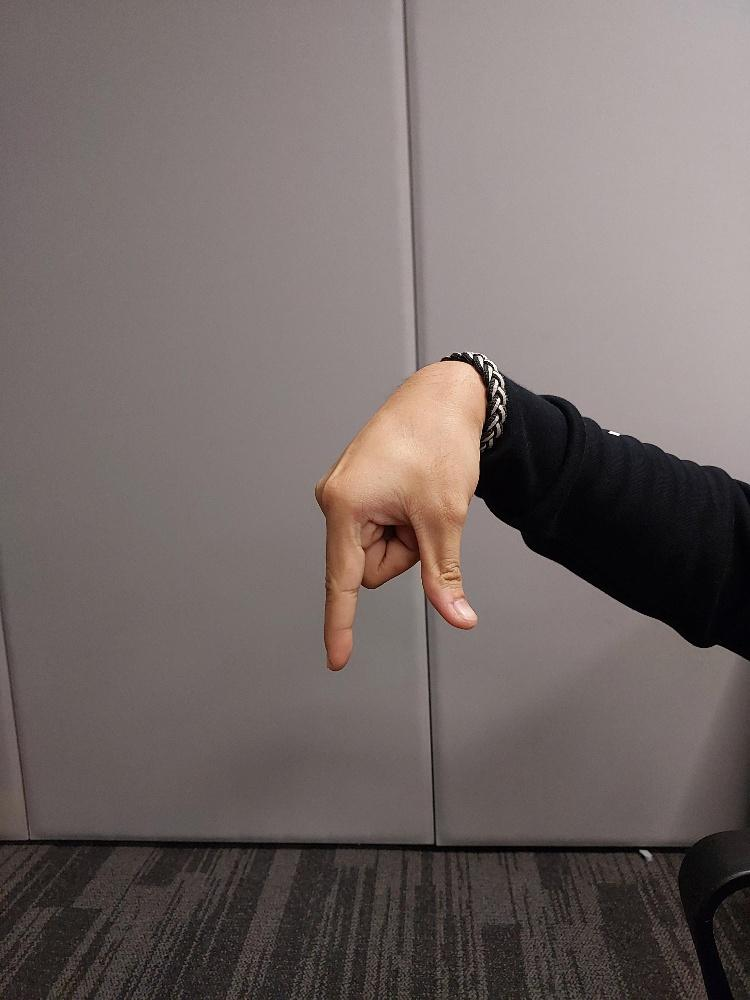q: (314, 358, 486, 671)
